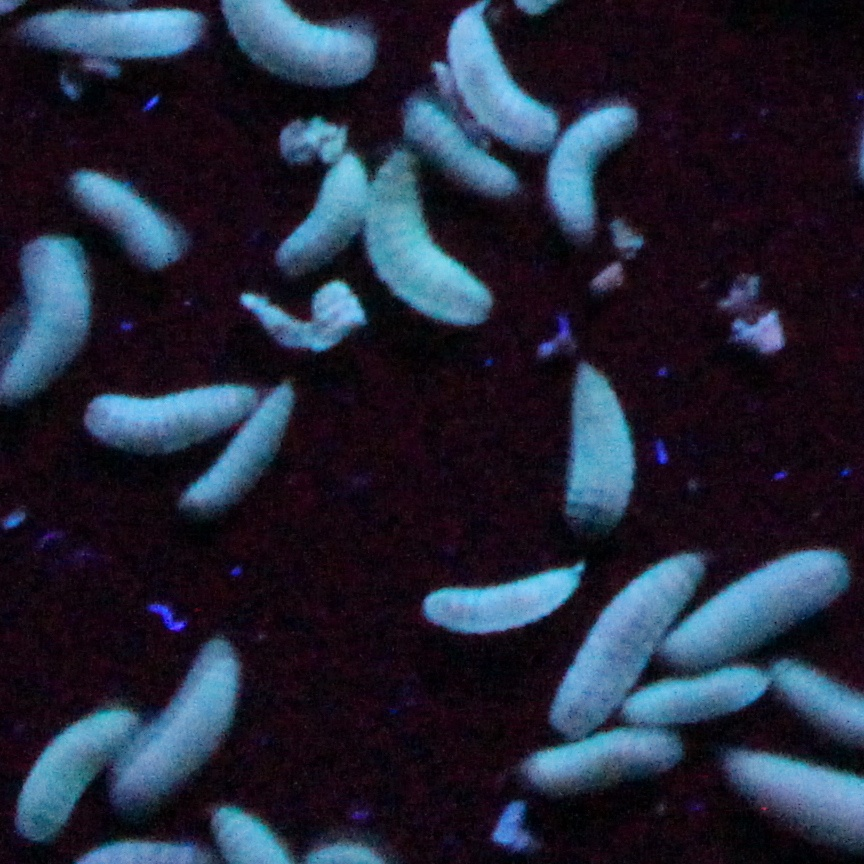larve: (551, 552, 693, 734), (364, 150, 486, 323), (671, 554, 858, 663), (124, 636, 240, 796), (444, 5, 558, 152), (9, 230, 91, 412), (15, 712, 129, 841), (186, 392, 295, 519), (564, 362, 638, 536), (411, 576, 571, 649), (551, 105, 635, 239), (406, 99, 518, 192), (84, 394, 262, 452), (73, 170, 182, 263), (526, 728, 675, 785), (13, 16, 200, 61), (282, 152, 353, 268)
